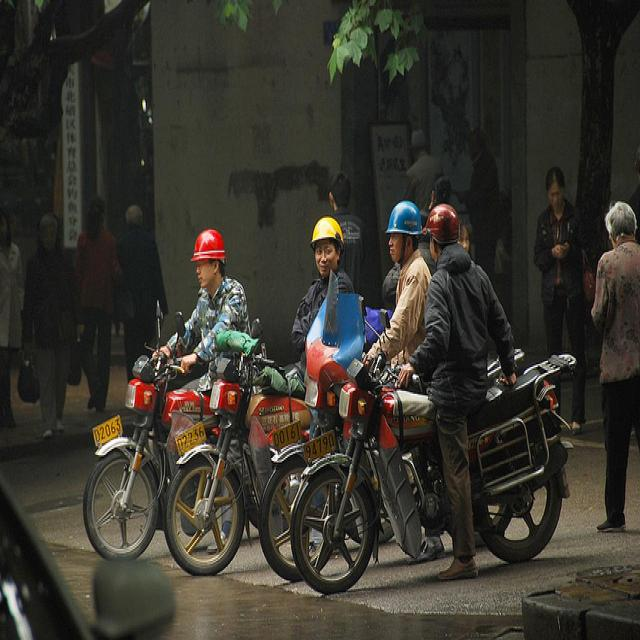motor: (289, 295, 578, 596), (165, 318, 310, 577), (85, 296, 216, 564), (258, 267, 364, 580)
